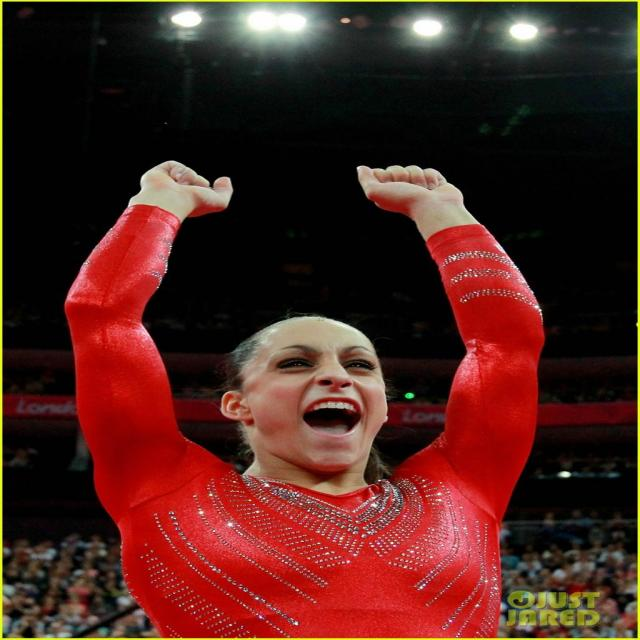nomask: (252, 321, 388, 458)
